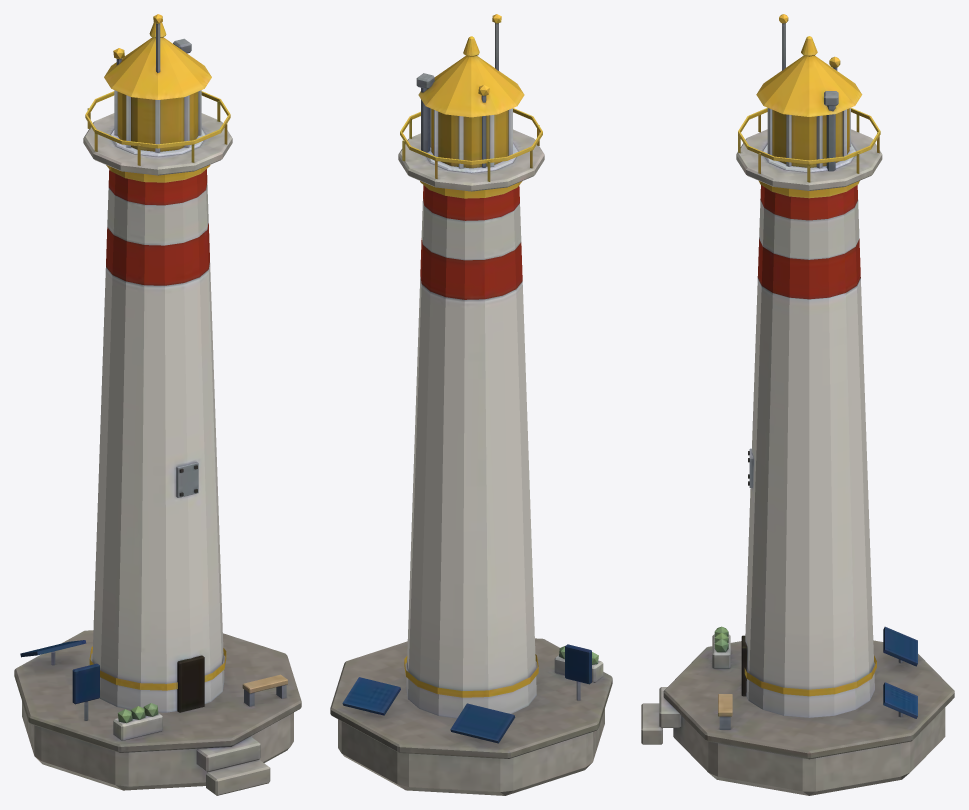
The model's file is lighthouse-30.glb.
The picture shows the model from 3 angles, left to right: view 1: azimuth 30°, elevation 25°; view 2: azimuth 150°, elevation 25°; view 3: azimuth 270°, elevation 25°; orthographic projection.
Visible parts, largest first — view 1: lighthouse-30; view 2: lighthouse-30; view 3: lighthouse-30.
Boxes of the visible parts, x1,y1,x2,y2 form: lighthouse-30: (14,14,301,795); lighthouse-30: (330,14,612,795); lighthouse-30: (641,14,954,795).
Bounding box in the file's own units: 1.59 × 4.35 × 1.72.
1 material, 1 textured.
